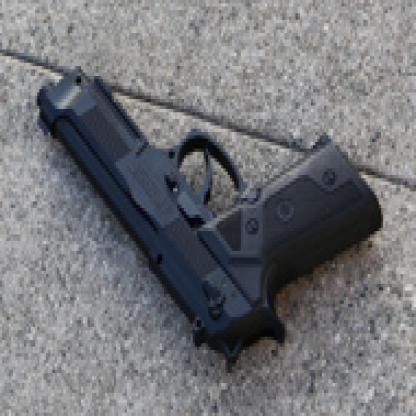gun: (29, 50, 394, 373)
